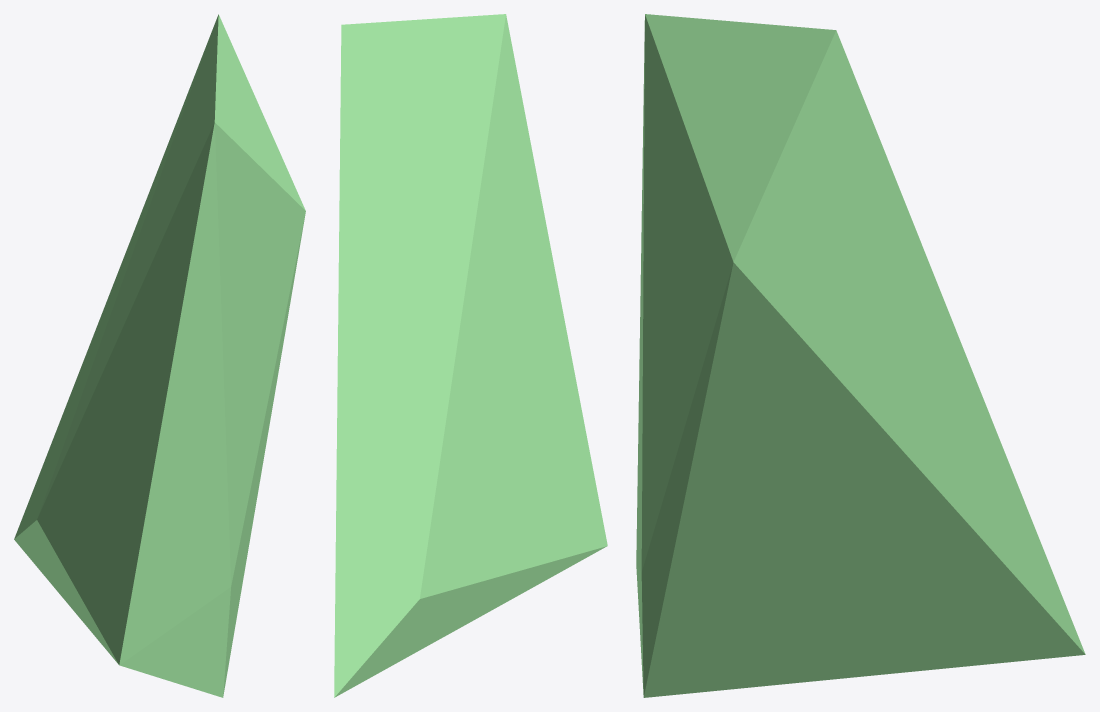
Rendered from UMIRobot_UMIRobot_link_2_convex_coll_14.dae.
3 renders of one model, left to right at view 1: azimuth 30°, elevation 25°; view 2: azimuth 150°, elevation 25°; view 3: azimuth 270°, elevation 25°, orthographic. The views are drawn at different scales.
Parts seen in each view (by area): view 1: node; view 2: node; view 3: node.
Part boxes in pixels (x1,y1,x2,y2): node: (14, 14, 305, 697); node: (334, 14, 607, 697); node: (636, 14, 1085, 697).
Bounding box in the file's own units: 0.00774 × 0.0196 × 0.0112.
